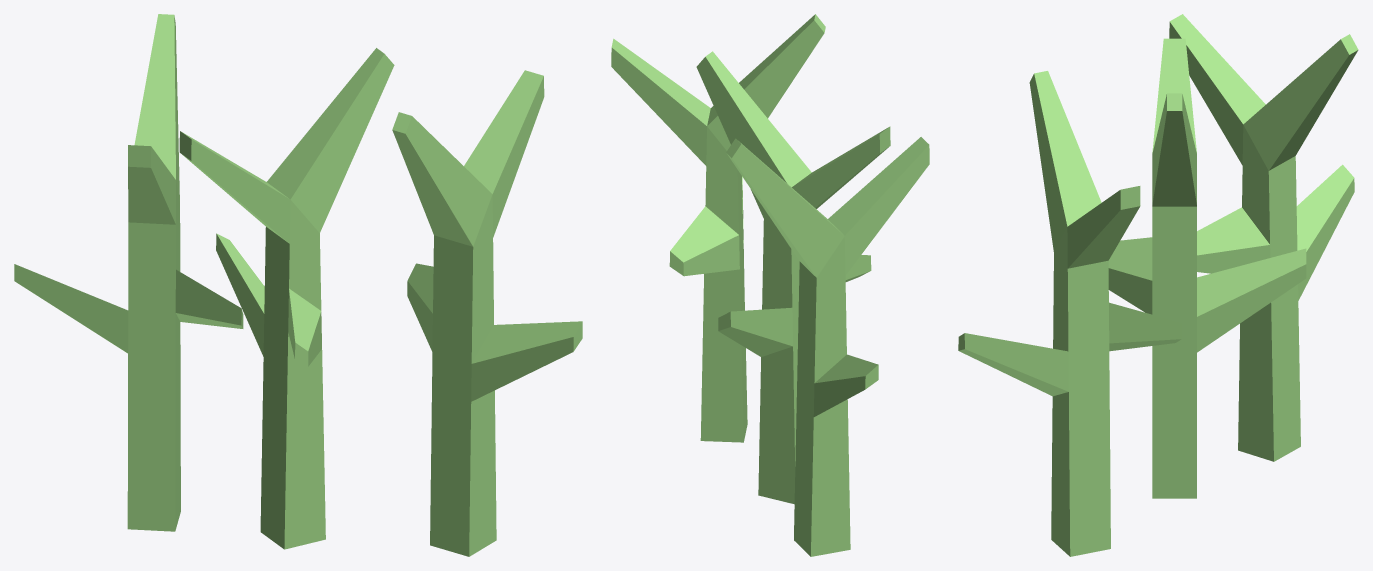
Rendered from plant_b.gltf.
The picture shows the model from 3 angles, left to right: view 1: azimuth 30°, elevation 25°; view 2: azimuth 150°, elevation 25°; view 3: azimuth 270°, elevation 25°; orthographic projection. The views are drawn at different scales.
Visible parts, largest first — view 1: plant_b; view 2: plant_b; view 3: plant_b.
Part boxes in pixels (x1,y1,x2,y2): plant_b: [14, 14, 582, 556]; plant_b: [611, 14, 929, 556]; plant_b: [958, 14, 1358, 556].
Bounding box in the file's own units: 0.7458 × 0.802 × 0.6671.
Materials: 1 (1 with a texture image).
